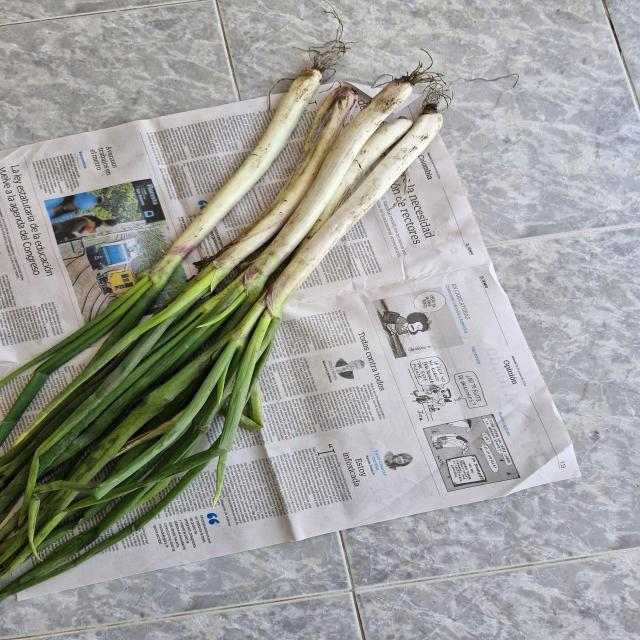green_onion: (0, 109, 450, 626), (0, 56, 329, 501)
